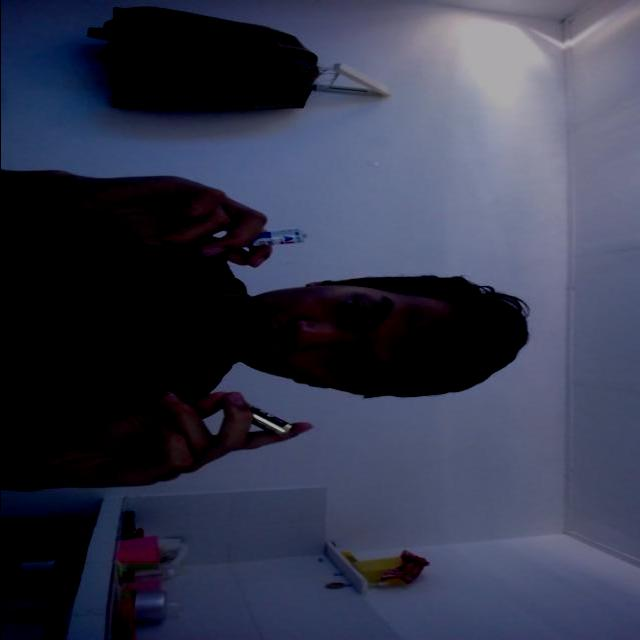AA: (216, 389, 303, 437), (242, 229, 326, 255)
